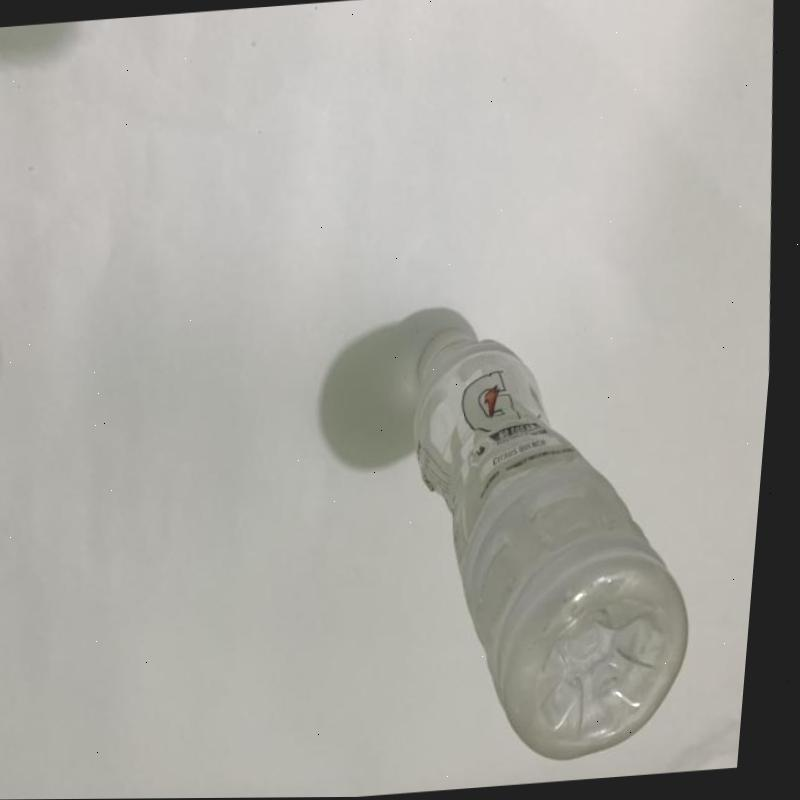botella: (394, 320, 727, 772)
